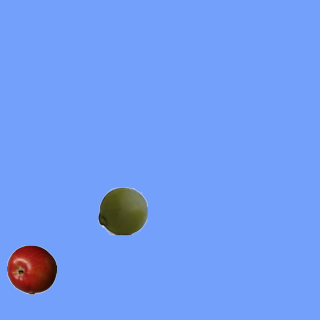Apple Braeburn: (6, 244, 56, 294)
Grape White 4: (97, 185, 147, 235)
